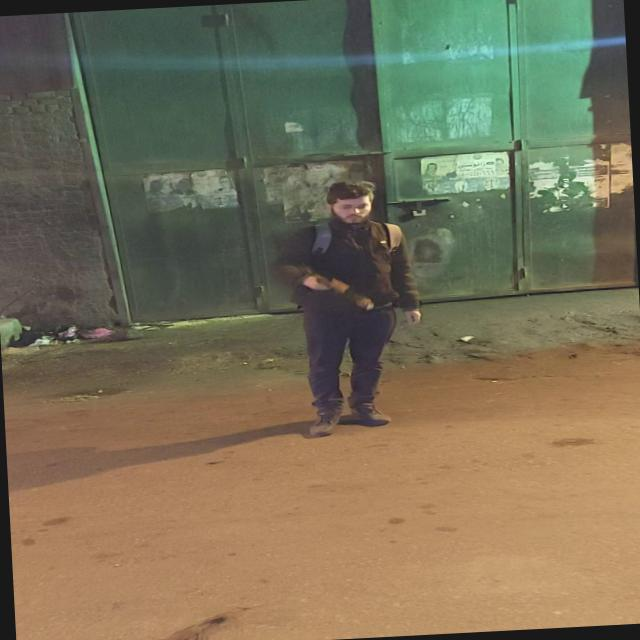long weapon: (280, 252, 423, 335)
